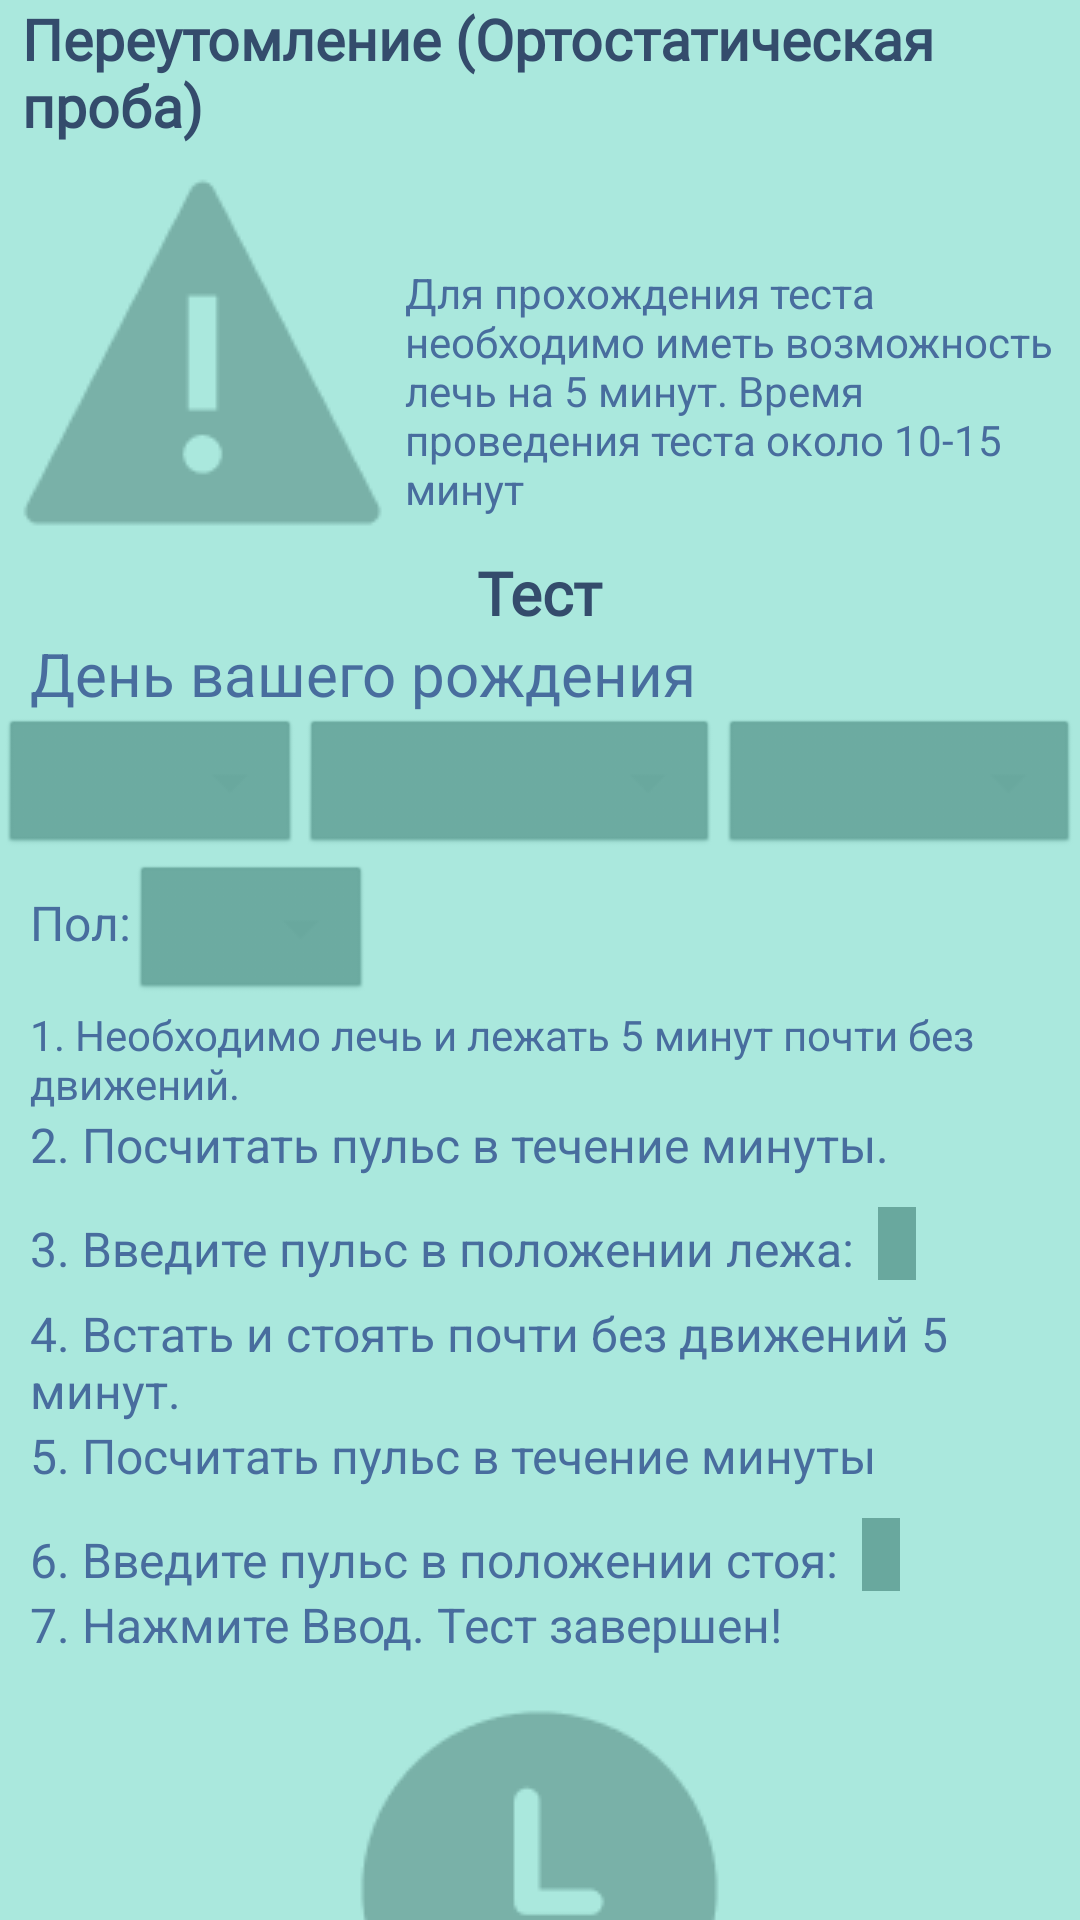

Screen size 1080x1920. Icon name, then its center in pixels as point (x, y):
warning: point (202, 353)
